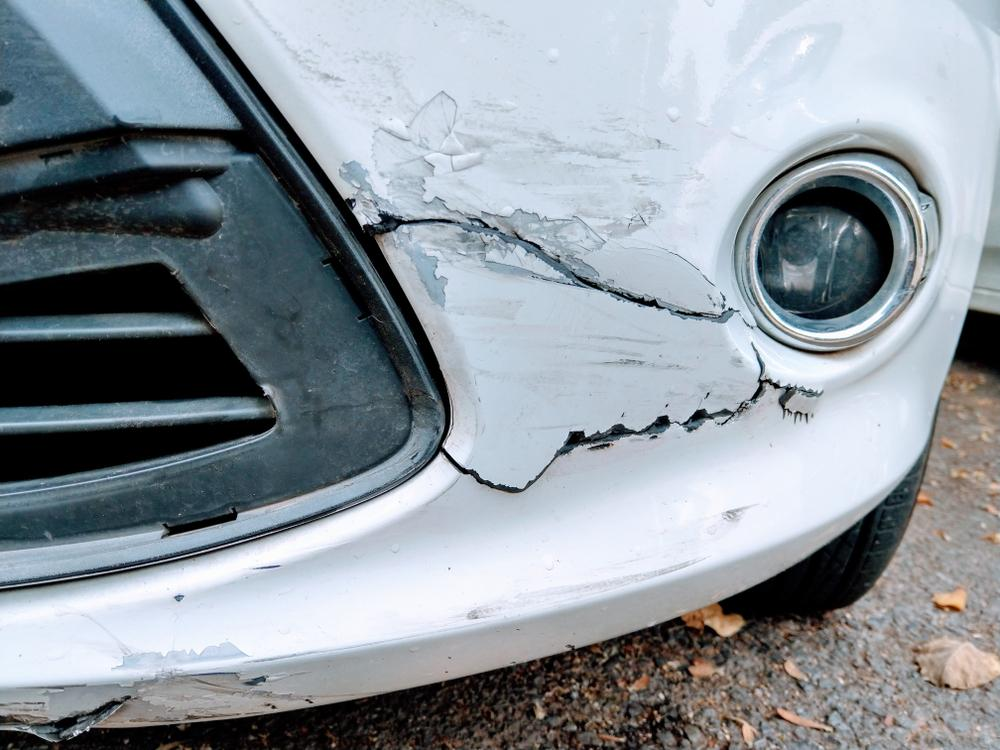crack: (367, 211, 827, 494), (0, 693, 137, 742)
scratch: (340, 90, 700, 270), (461, 498, 756, 625), (0, 647, 333, 732)
